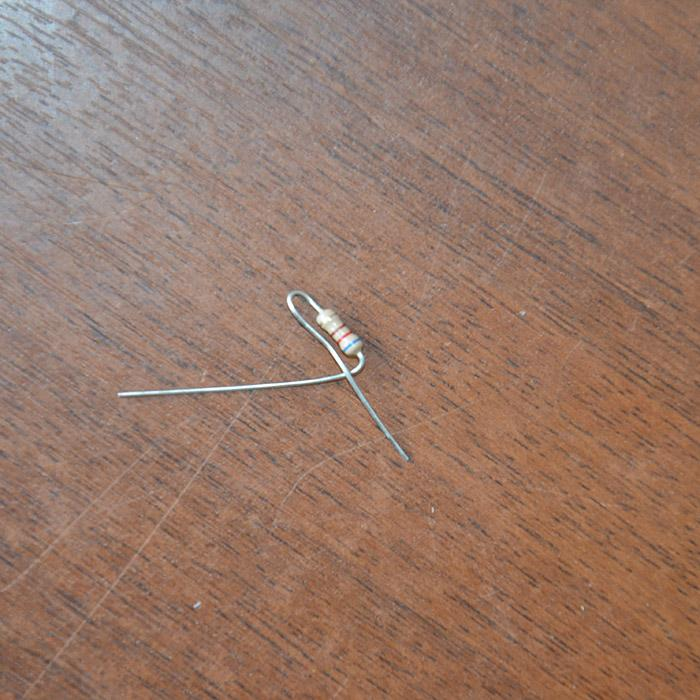resistor: (313, 306, 362, 357)
